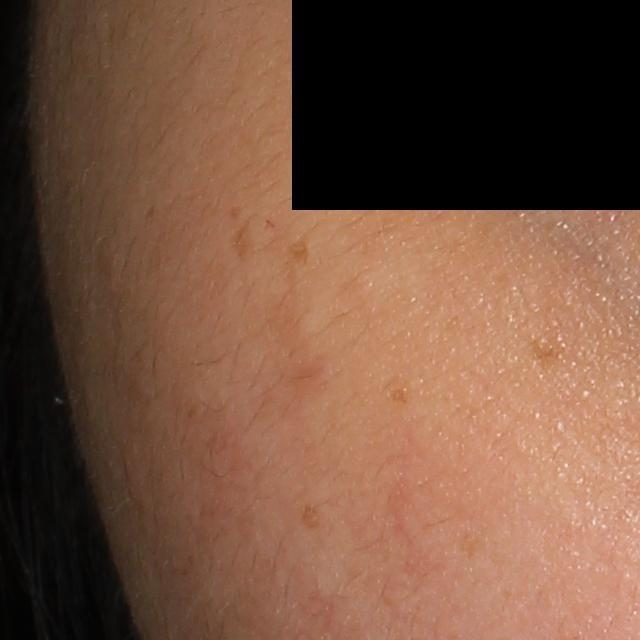melasma: (227, 211, 263, 270), (284, 233, 313, 274), (528, 334, 564, 364), (386, 385, 412, 407), (227, 199, 248, 220)
